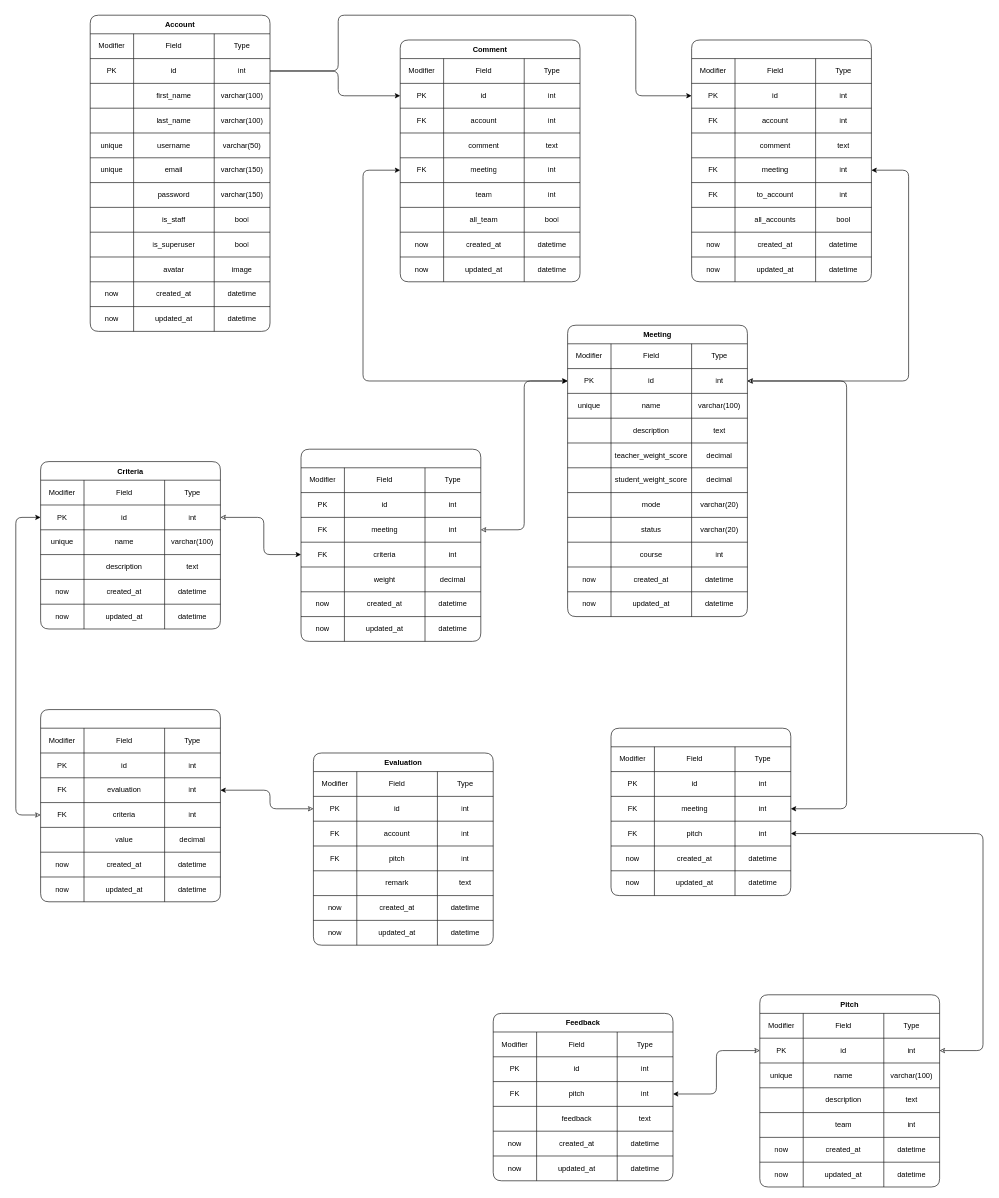
Image size: 999x1198. Some labels were removed from this diagram. Here are the shapes that lost their labels. From the top down, the box of each, then its label:
(691, 39, 871, 282): Chat
(300, 449, 481, 641): MeetingCriteria
(40, 709, 220, 902): EvaluationCriteria
(610, 728, 791, 896): MeetingPitch
